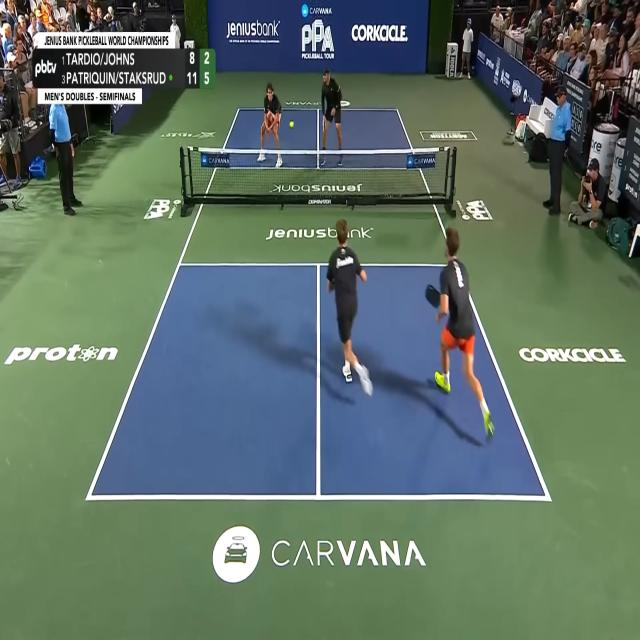ball: (289, 120, 294, 128)
